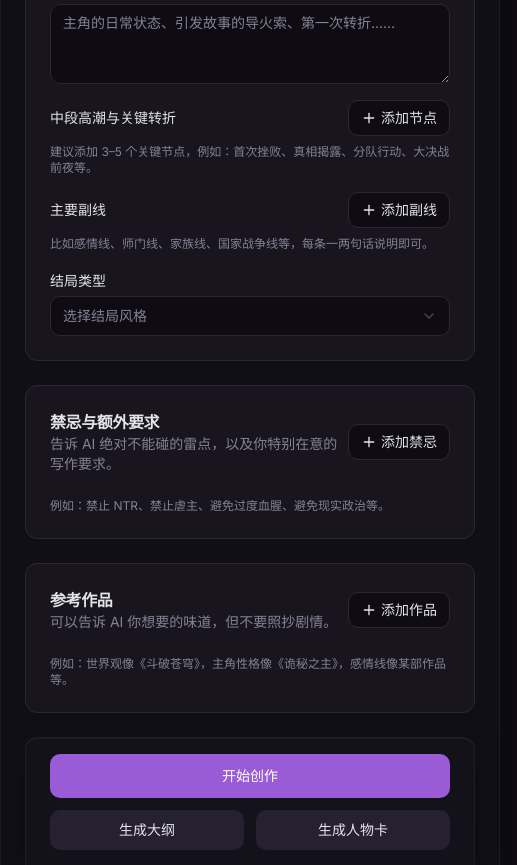
Test: NovelSettingsForm › 应当支持参考作品的动态添加、修改与删除，并保存状态
Later steps or results of the test are not shown.
(page scrolled)
Expected: the field with placeholder "作品名，如：斗破苍穹" is not shown
Expected: the text "例如：世界观像《斗破苍穹》，主角性格像《诡秘之主》，感情线像某部作品等。" is shown, [50,656,450,688]
Note: 点击添加作品按钮
Click the button "添加作品" at [399, 610], box [348,592,450,628]
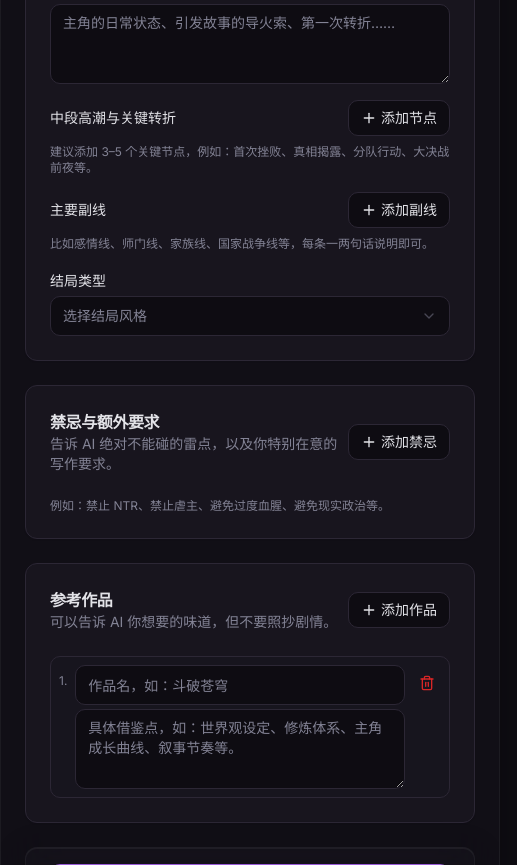
Now the field with placeholder "作品名，如：斗破苍穹" is shown
Now the text box with placeholder "具体借鉴点，如：世界观设定、修炼体系、主角成长曲线、叙事节奏等。" is shown, box [75,709,405,789]
Type "诡秘之主" into the field with placeholder "作品名，如：斗破苍穹" at [240, 685], box [75,665,405,705]
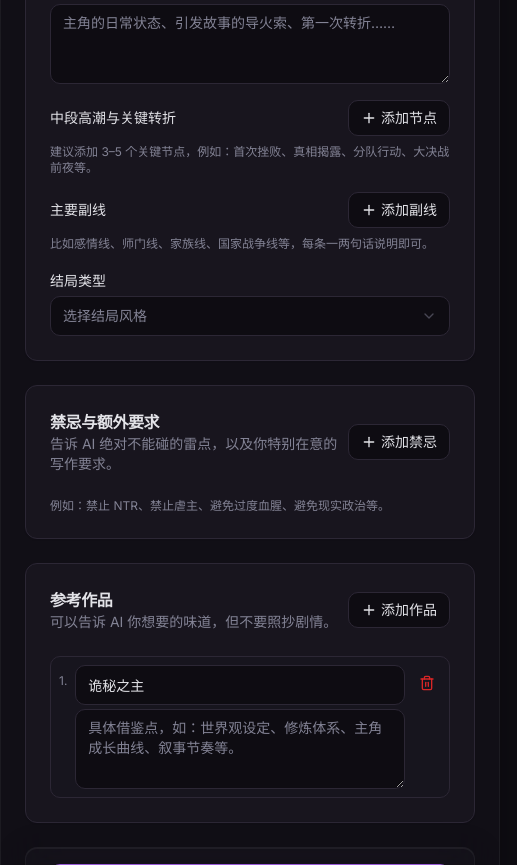
Type "借鉴其扮演法和克苏鲁风格" into the text box with placeholder "具体借鉴点，如：世界观设定、修炼体系、主角成长曲线、叙事节奏等。" at [240, 749], box [75,709,405,789]
Wait 400 ms
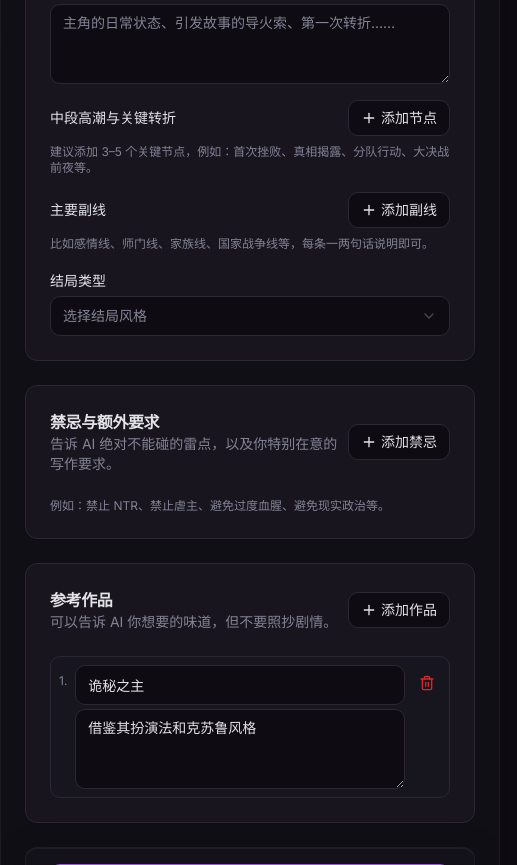
Now the 5th button is shown, box [413,669,441,697]
